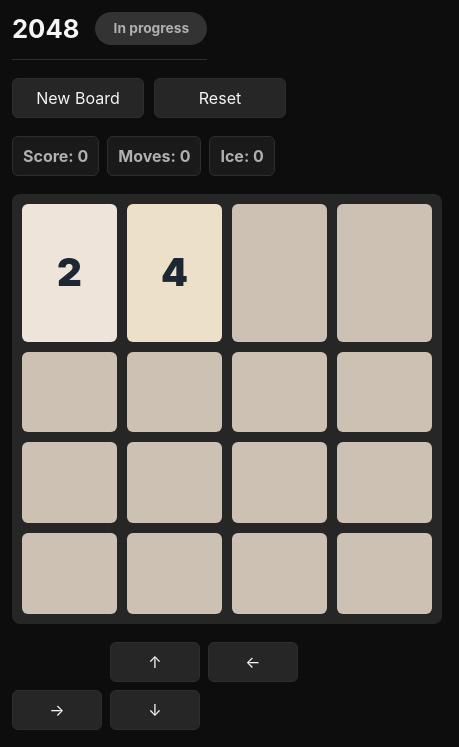
Area 2 - rapid repeated clicks send a single request › double-click Reset: one reset request (previously unguarded)
Expected: the button "↑" is shown, left=110, top=642, right=200, bottom=682
Step 1. Click the button with id "g2048-reset" → point(220, 98), box left=154, top=78, right=286, bottom=118
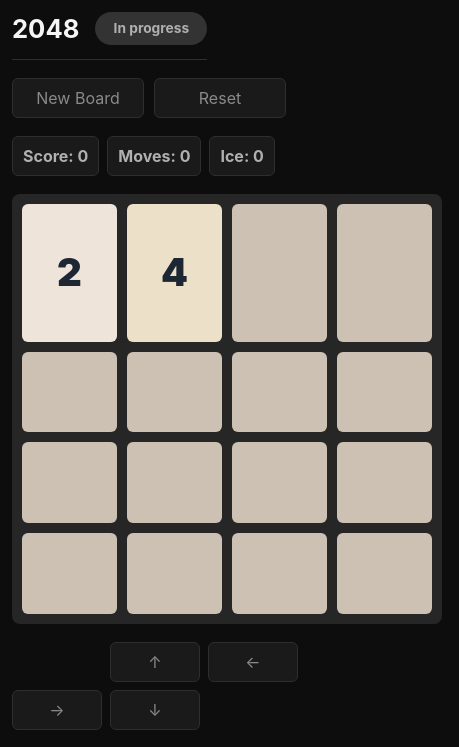
Step 2. Click the button with id "g2048-reset" → point(220, 98), box left=154, top=78, right=286, bottom=118
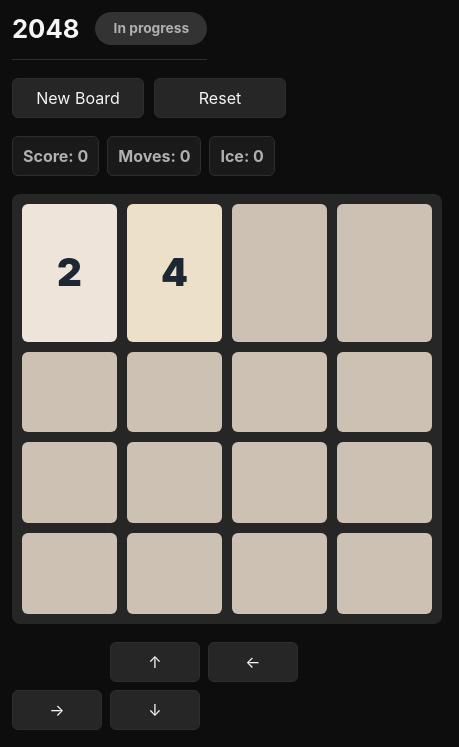
Result: the button with id "g2048-reset" is enabled at left=154, top=78, right=286, bottom=118
